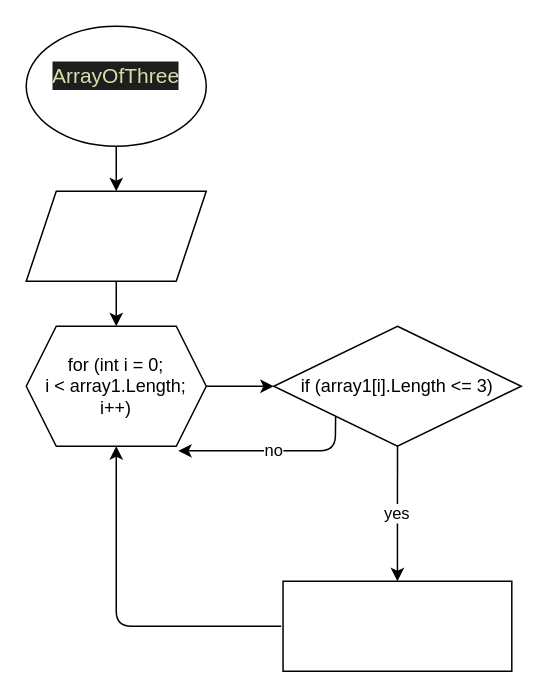
The diagram is 548 pixels wide and 698 high, and some of its shapes have lost their labels. Here are the shapes that lost their labels. From the top down, the centre of each, then its label:
pixel 115 235: string[] array1 string array2 int count = 0
pixel 397 625: array2[count] = array1[i] count++;
